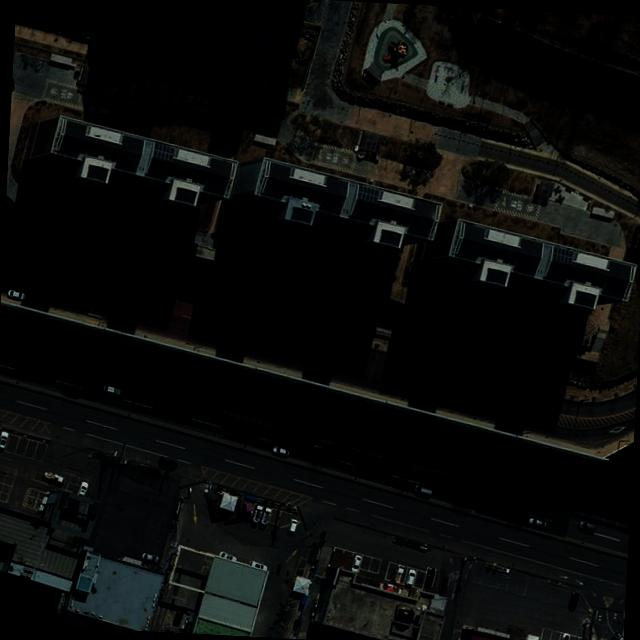solar: (356, 185, 382, 205), (152, 144, 178, 163), (551, 246, 574, 266)
